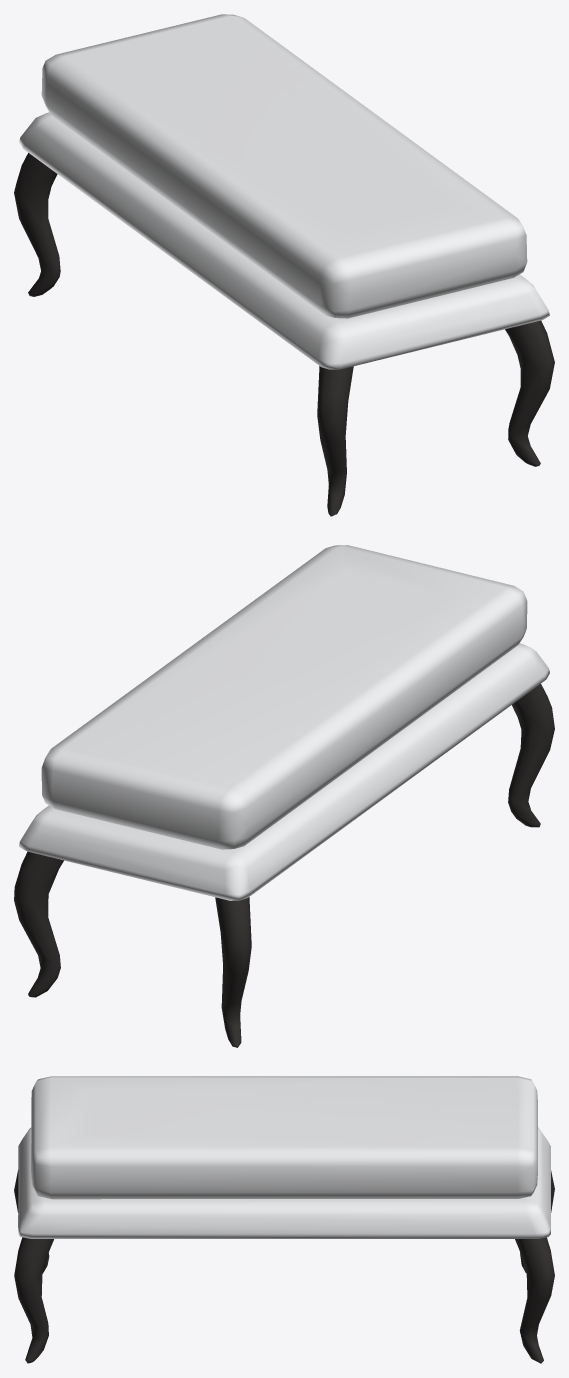
Rendered from footstool_01_white.fbx.
3 views of the same model, one above another, from view 1: azimuth 30°, elevation 25°; view 2: azimuth 150°, elevation 25°; view 3: azimuth 270°, elevation 25° (orthographic). The views are drawn at different scales.
Parts seen in each view (by area): view 1: footstool_01_white; view 2: footstool_01_white; view 3: footstool_01_white.
Part boxes in pixels (<box>): footstool_01_white: <box>14,14,554,516</box>; footstool_01_white: <box>14,545,554,1047</box>; footstool_01_white: <box>14,1076,554,1363</box>.
Size of the model in its own units: 46.53 by 46.52 by 109.
Materials: 2 (2 with a texture image).
